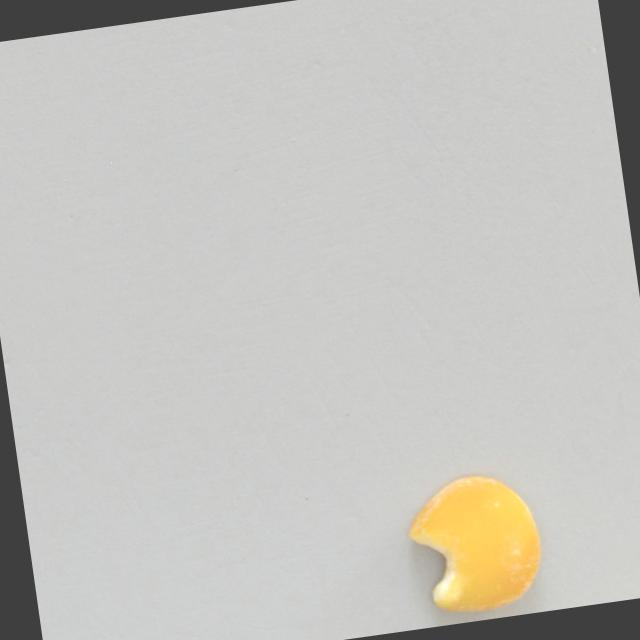pelicula: (401, 467, 551, 621)
